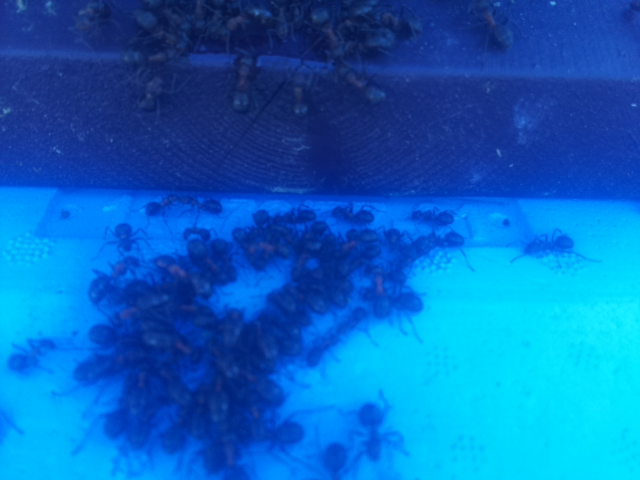ant: (331, 57, 391, 107), (178, 222, 220, 279), (472, 0, 514, 55), (354, 403, 388, 456), (140, 71, 163, 113)
